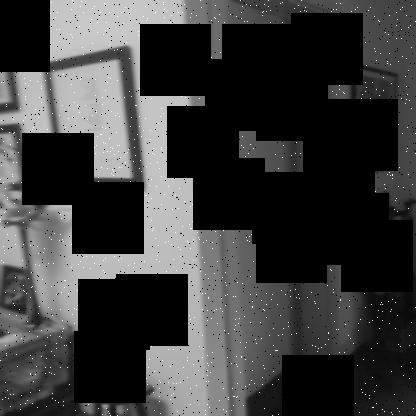Porte: (204, 0, 337, 415)
